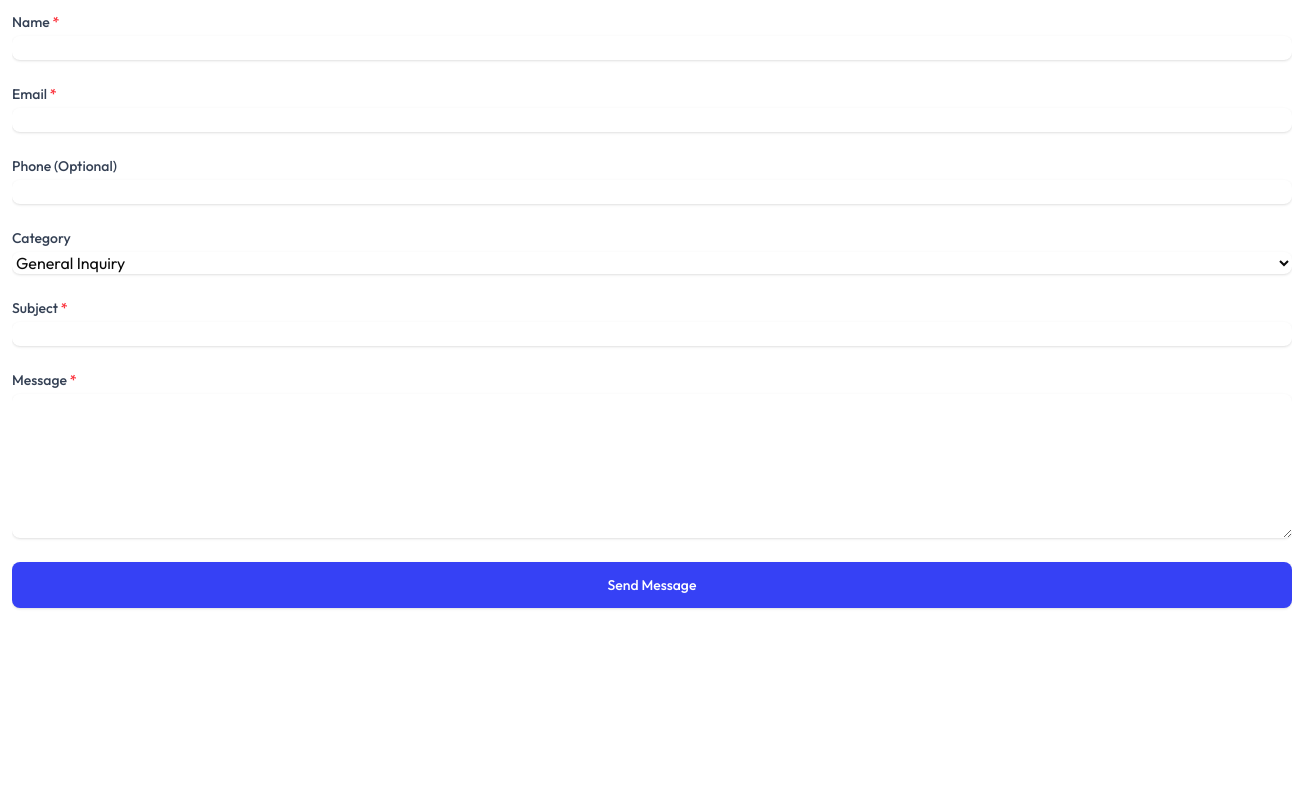
Test: ContactForm › shows validation errors when submitting empty form
The image size is (1304, 812).
Note: Submit the form without filling any fields
What coordinates should you click on to do the following:
click the button "Send Message"
I would click on:
 (652, 585)
Its box is [12, 562, 1292, 608].
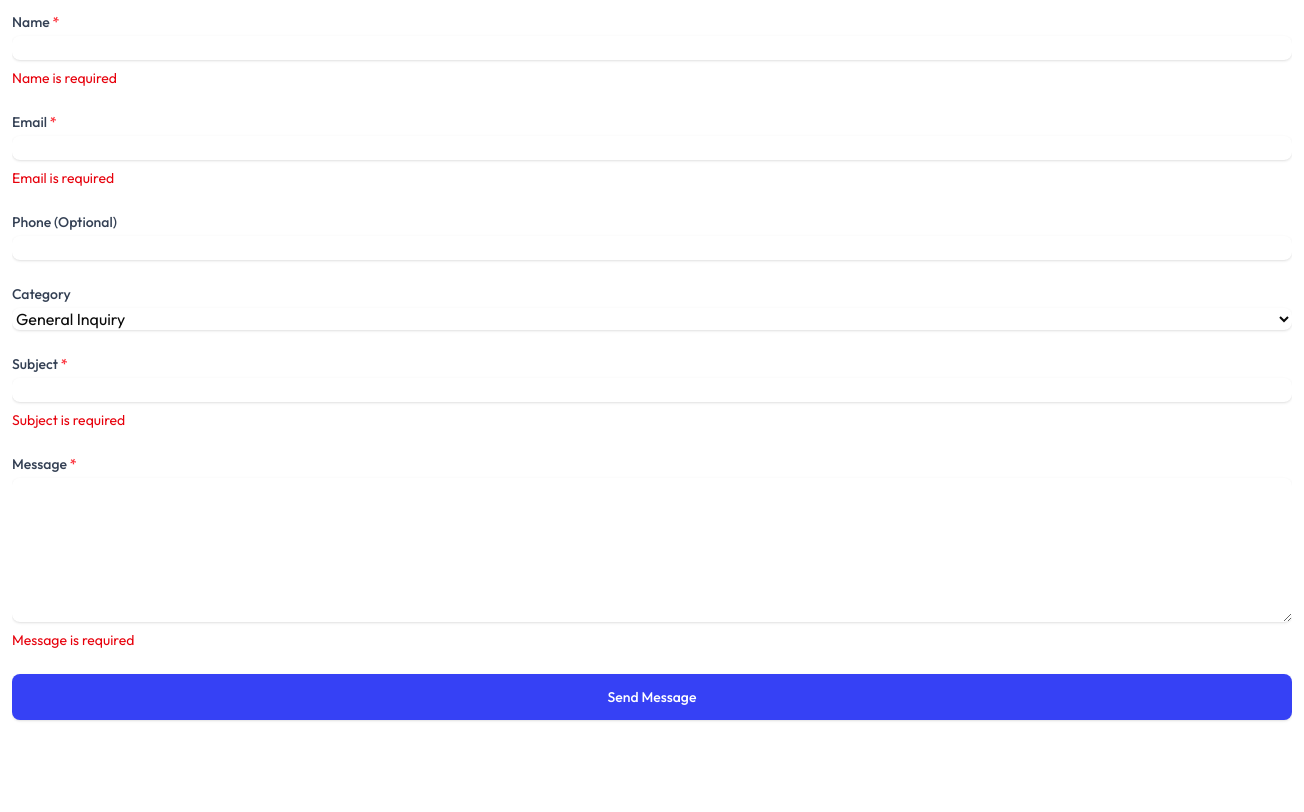
Result: the text "Name is required" is shown at [12, 69, 117, 87]
Result: the text "Email is required" is shown at [12, 169, 114, 187]
Result: the text "Subject is required" is shown at [12, 411, 125, 429]
